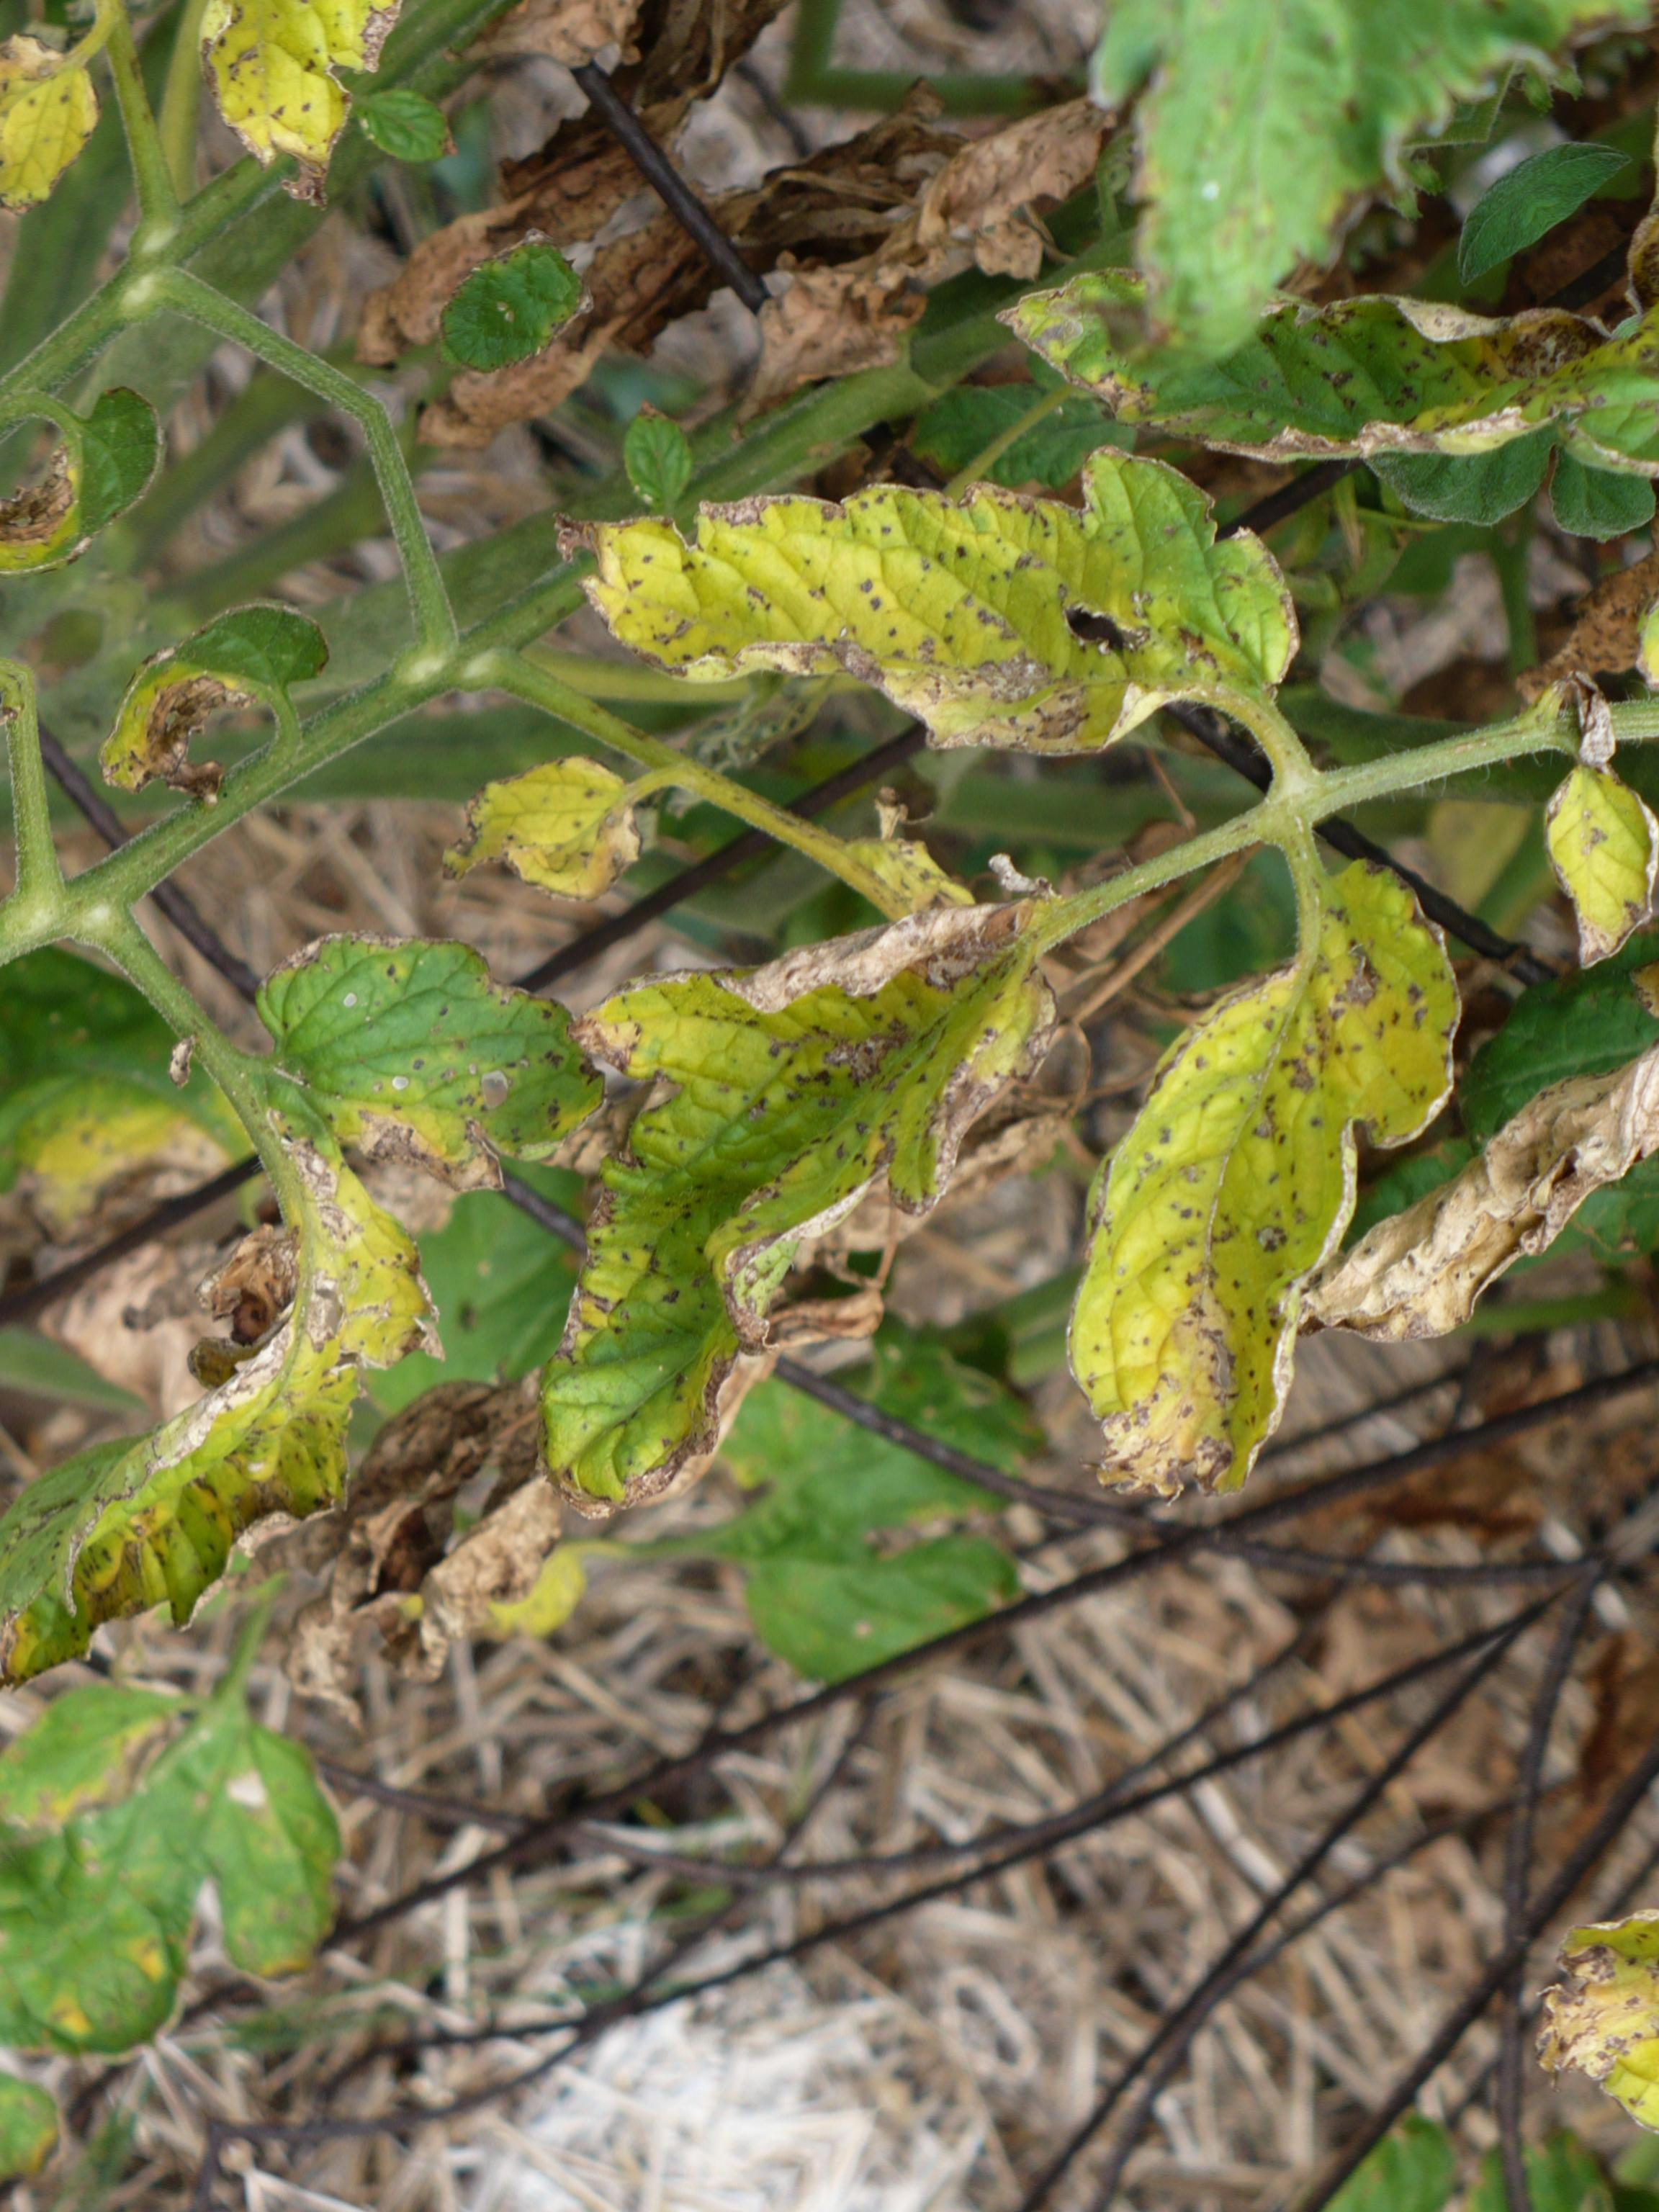Tomato Septoria leaf spot: (493, 164, 1375, 1047), (0, 799, 701, 1791), (347, 761, 1182, 1554), (878, 801, 1619, 1507)
